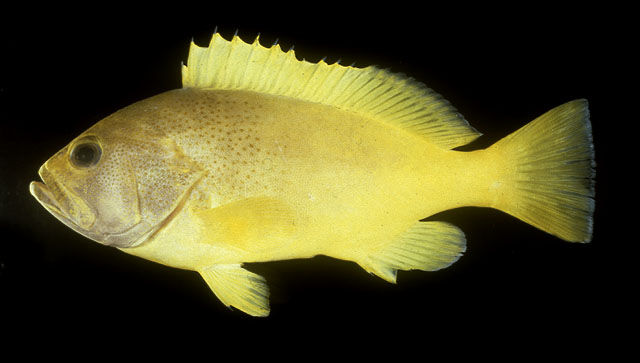fish: (29, 25, 597, 318)
